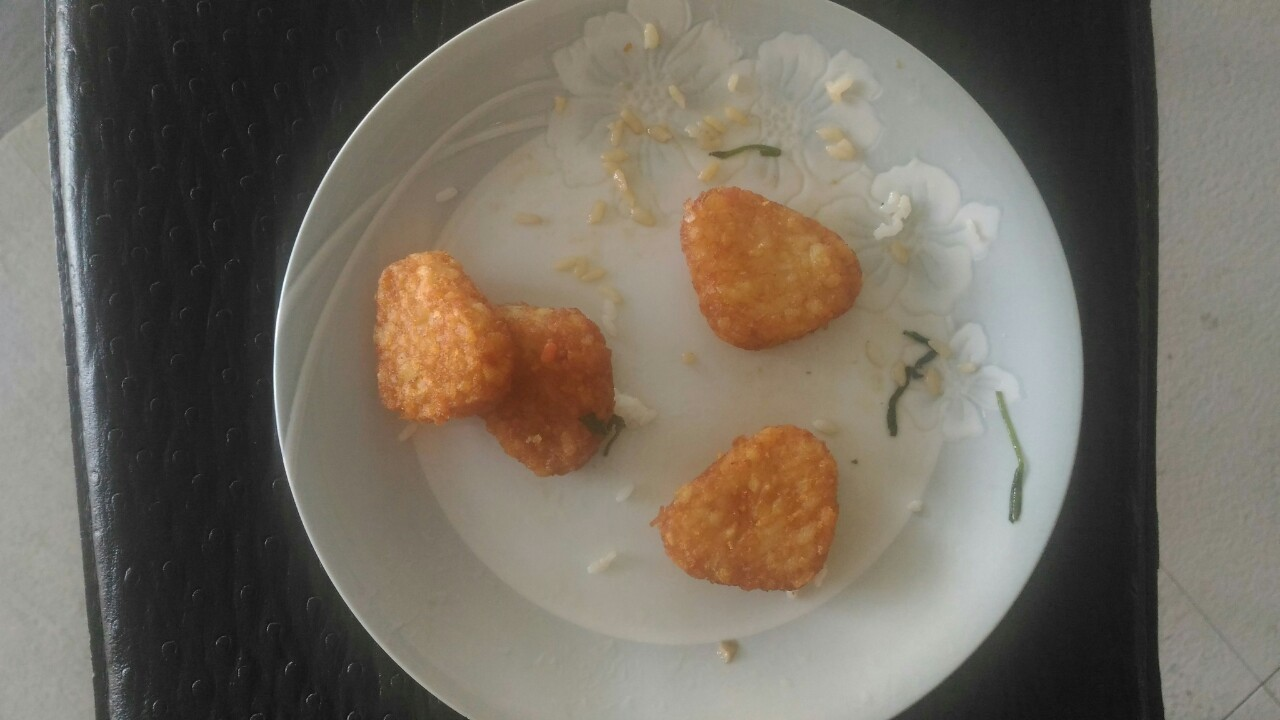triangle_hash_brown: (373, 253, 618, 476), (654, 421, 842, 593), (682, 183, 863, 350)
